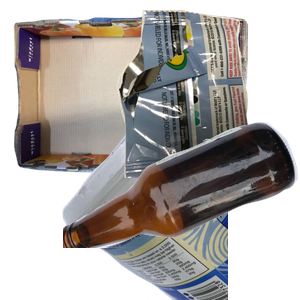cardboard: (11, 13, 251, 182)
glass: (63, 120, 300, 300)
plastic: (60, 120, 300, 300)
trash: (114, 10, 300, 180)
